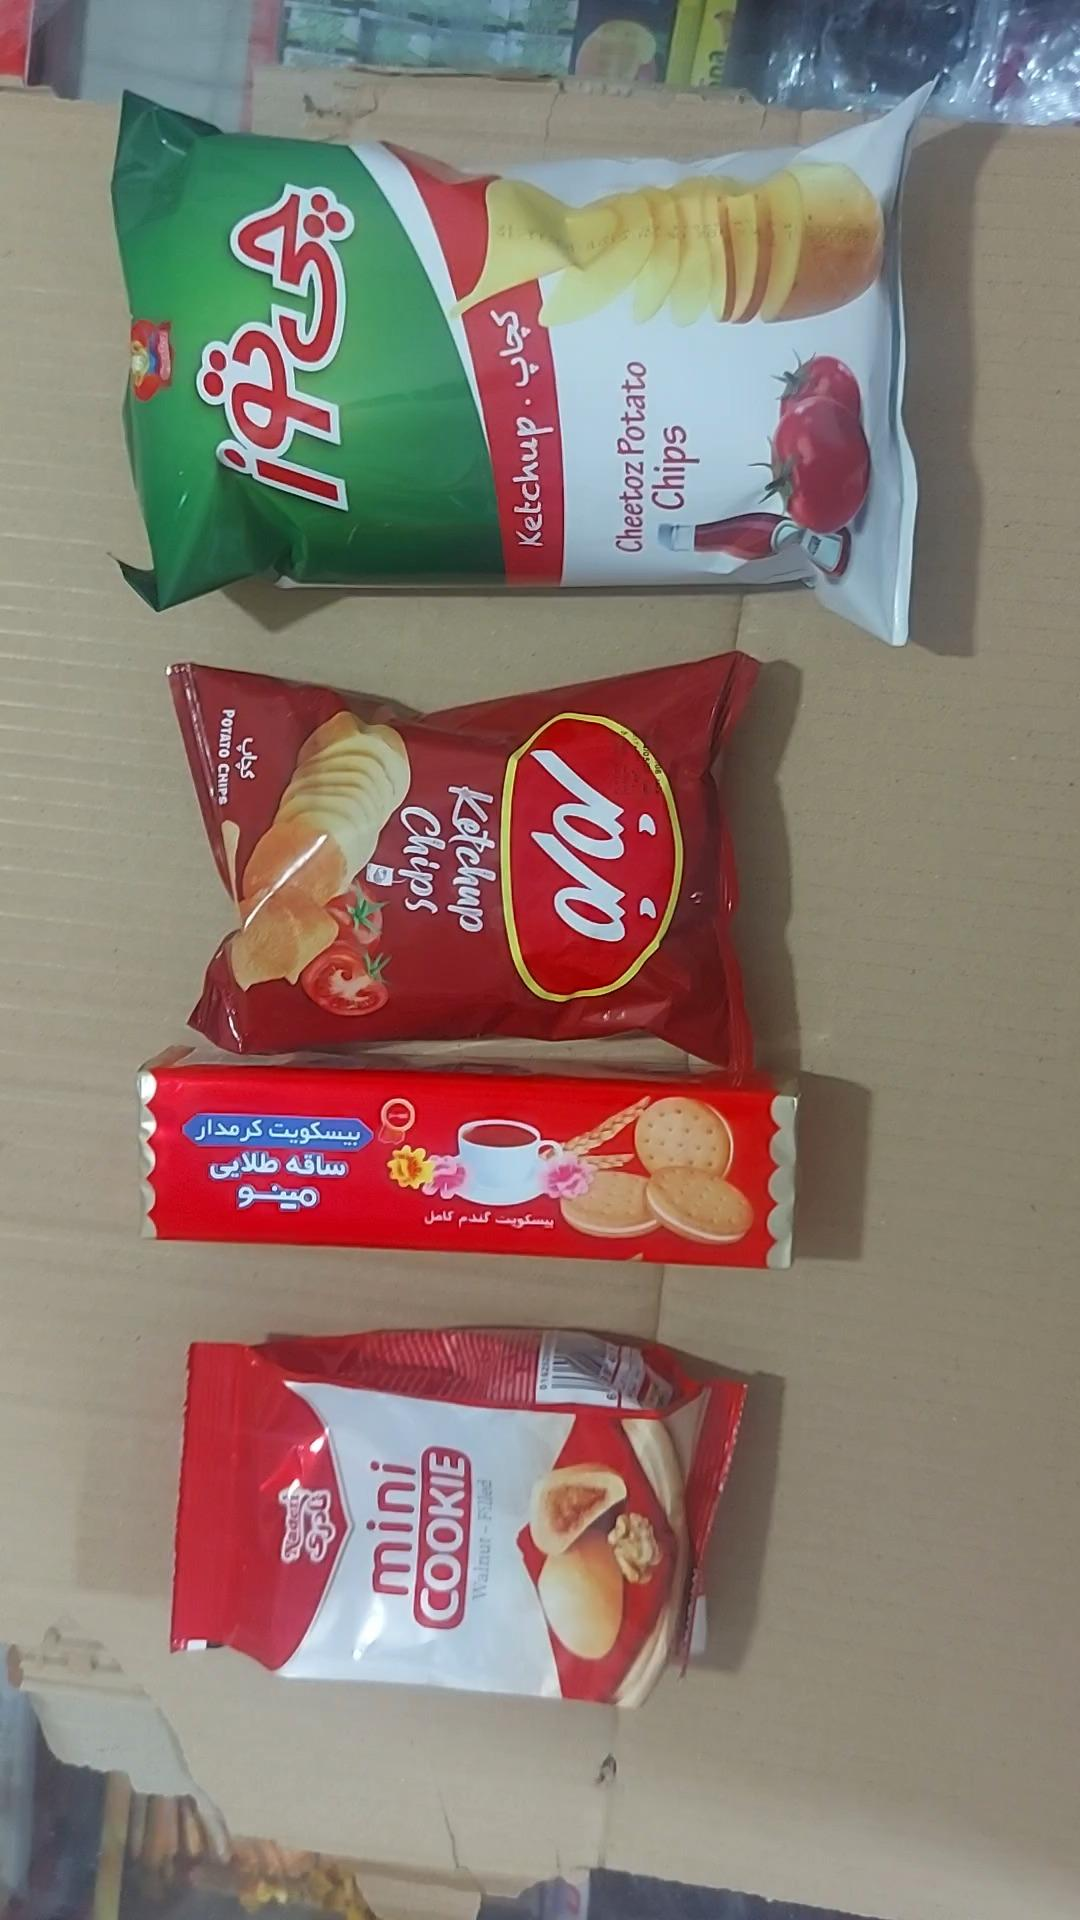Cheetoz ketchup chips: (103, 83, 936, 649)
Maz Maz ketchup chips: (169, 651, 761, 1069)
Minoo cream biscuit: (138, 1044, 803, 1270)
Naderi mini cookie: (167, 1329, 749, 1709)
